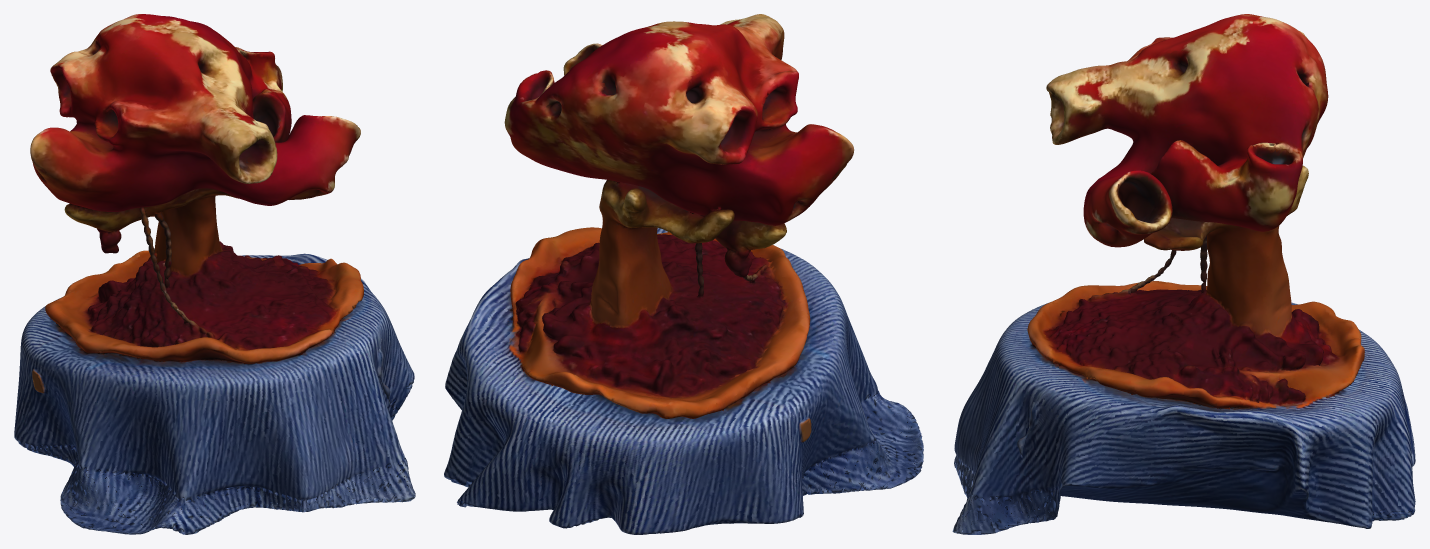
Rendered from sculpture.glb.
The picture shows the model from 3 angles, left to right: view 1: azimuth 30°, elevation 25°; view 2: azimuth 150°, elevation 25°; view 3: azimuth 270°, elevation 25°; orthographic projection. The views are drawn at different scales.
Visible parts, largest first — view 1: To Bleed in Liquid Gold (reconstruction); view 2: To Bleed in Liquid Gold (reconstruction); view 3: To Bleed in Liquid Gold (reconstruction).
Boxes of the visible parts, <box> form: To Bleed in Liquid Gold (reconstruction): <box>14,14,415,534</box>; To Bleed in Liquid Gold (reconstruction): <box>444,14,923,534</box>; To Bleed in Liquid Gold (reconstruction): <box>952,14,1415,534</box>.
Size of the model in its own units: 0.8188 by 0.9802 by 0.92.
1 material, 1 textured.
